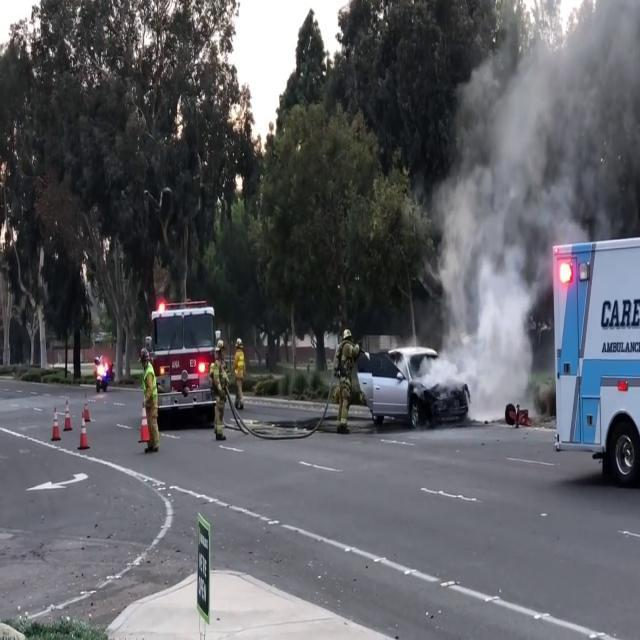Smoke: (431, 0, 640, 257), (446, 267, 544, 417)
